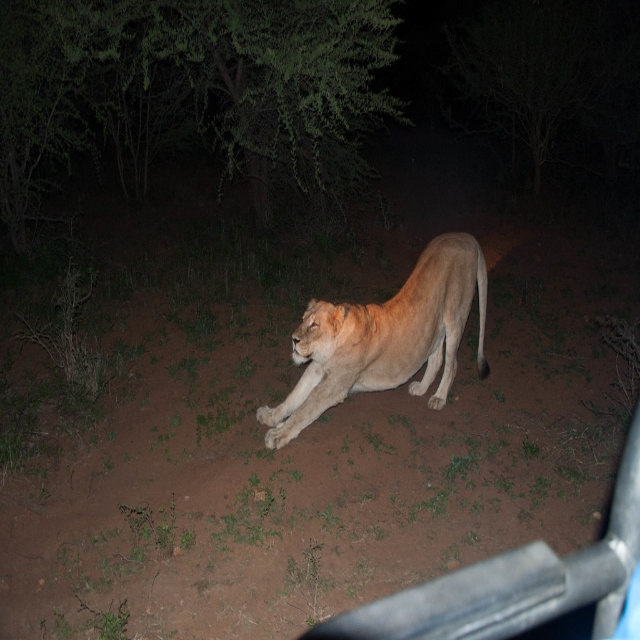Lion: (256, 231, 491, 452)
